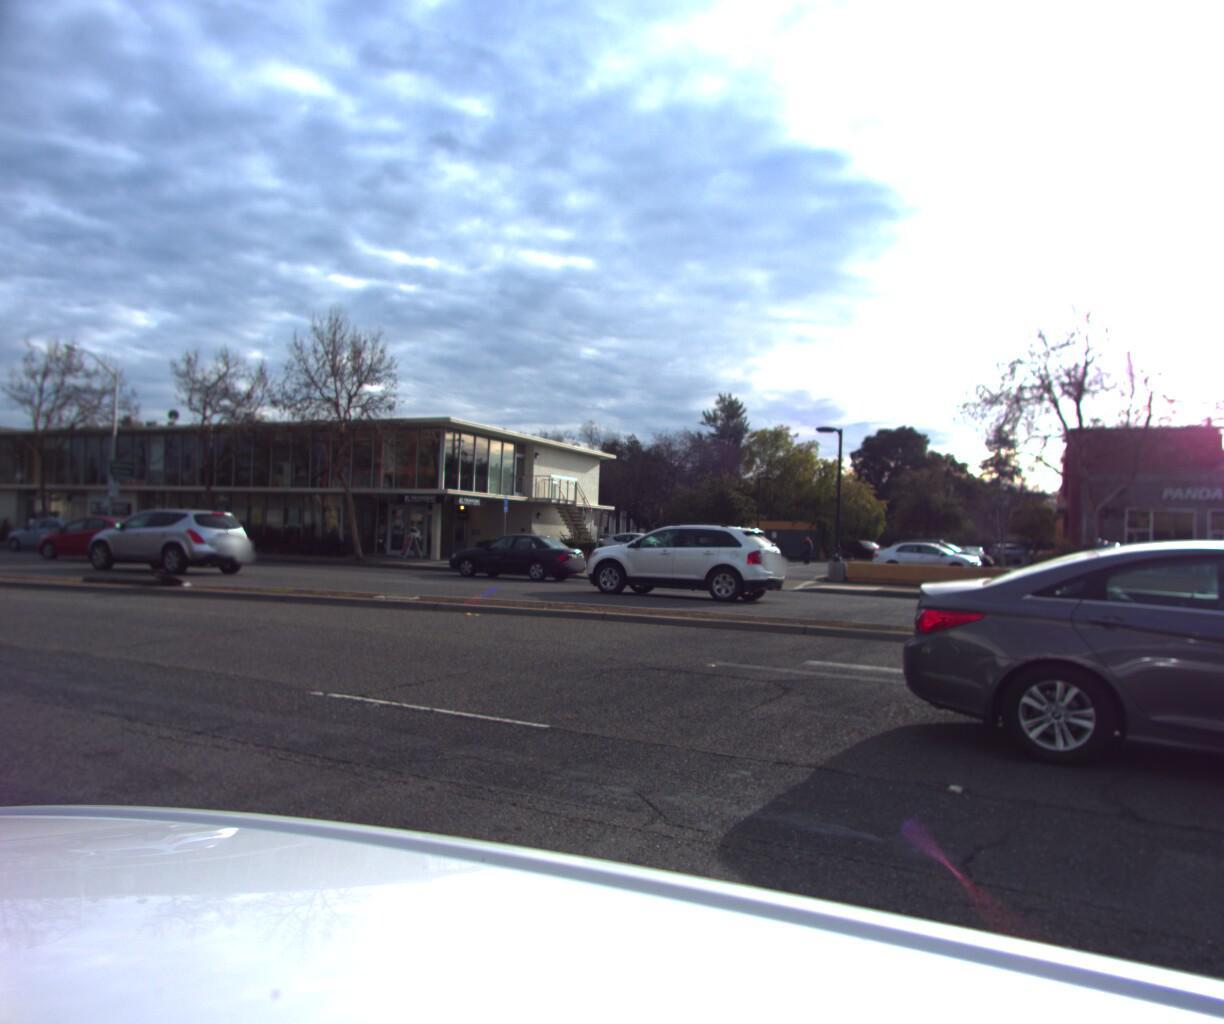car: (889, 526, 1224, 876), (576, 516, 793, 604), (81, 510, 261, 579), (444, 533, 594, 584), (26, 517, 166, 566), (0, 516, 95, 554), (1190, 553, 1224, 635)
